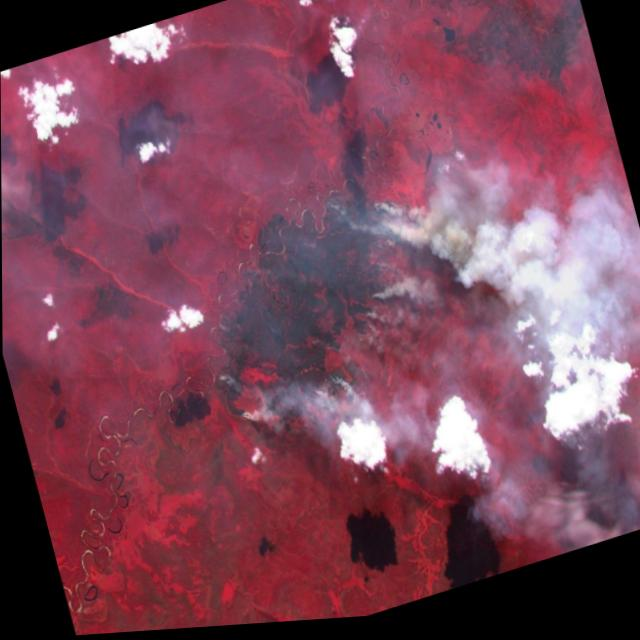fire: (175, 169, 444, 456)
